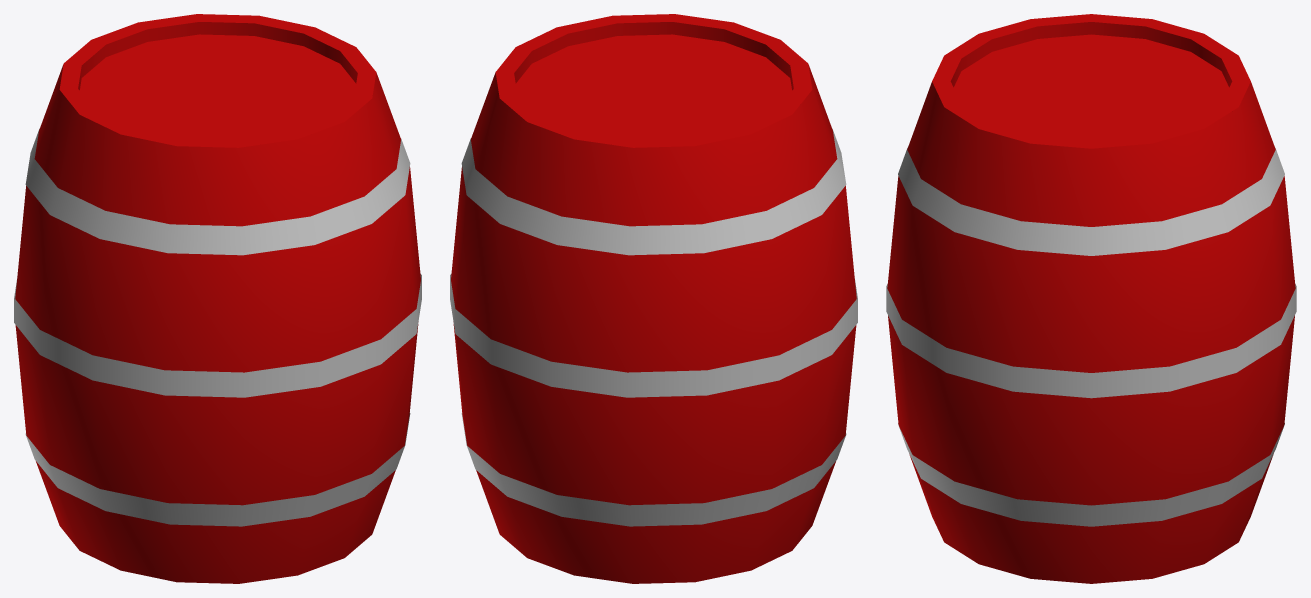
The model's file is Barrel.fbx.
3 views of the same model, side by side, from view 1: azimuth 30°, elevation 25°; view 2: azimuth 150°, elevation 25°; view 3: azimuth 270°, elevation 25° (orthographic).
Parts seen in each view (by area): view 1: Lathe, Disc_1, Cone_1, Cone, Disc, Cylinder; view 2: Lathe, Disc_1, Cone_1, Cone, Disc, Cylinder; view 3: Lathe, Disc_1, Cone_1, Cone, Disc, Cylinder.
Boxes of the visible parts, x1,y1,x2,y2 form: Lathe: (15,64,420,583); Disc_1: (79,34,355,139); Cone_1: (25,128,410,526); Cone: (14,273,421,397); Disc: (59,14,376,147); Cylinder: (78,22,357,90); Lathe: (451,64,856,583); Disc_1: (516,34,792,139); Cone_1: (461,128,846,526); Cone: (450,273,857,397); Disc: (495,14,812,147); Cylinder: (514,22,793,90); Lathe: (887,82,1295,583); Disc_1: (953,34,1229,140); Cone_1: (898,147,1284,526); Cone: (886,284,1296,398); Disc: (932,14,1250,148); Cylinder: (950,22,1232,87).
Size of the model in its own units: 41.44 by 48.49 by 41.44.
